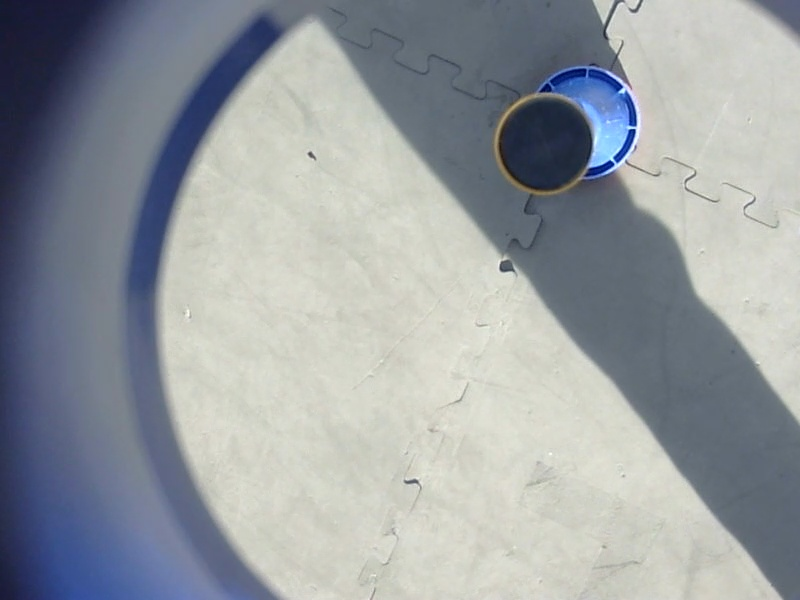tip: (486, 88, 599, 204)
